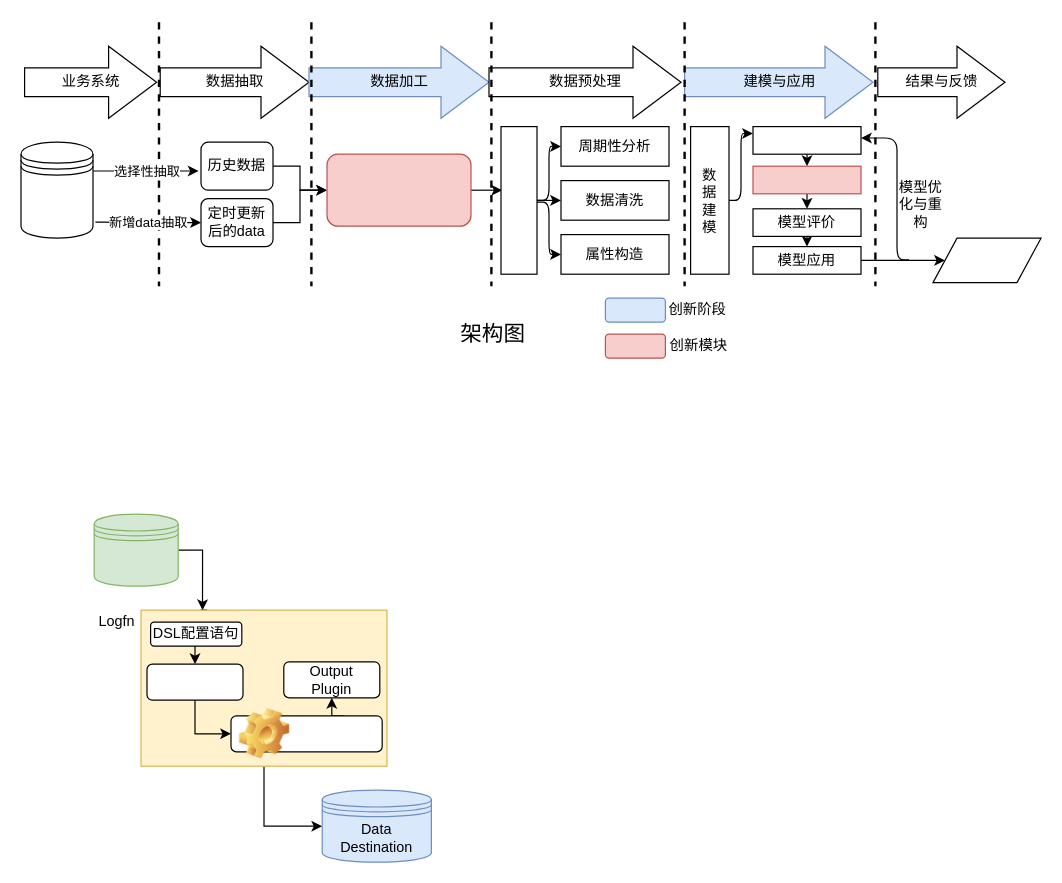
Image size: 1062x883. Some labels were removed from this diagram. The shapes that lost their labels are listed below. From the top down, each one's centre as x and y in pixels, then its label:
(806,139): 时序预测
(56,189): 数据源
(398,189): Logfn系统
(518,199): 缺失值与异常值分析
(806,179): 聚类算法
(986,260): 应用结果
(135,549): DataSource
(194,681): Input Plugin
(306,733): Function Plugin
